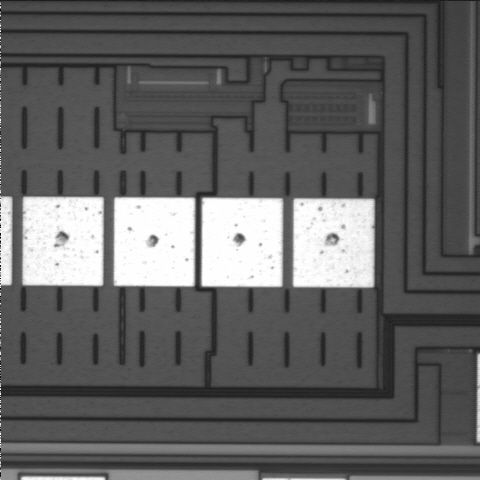pad: (22, 197, 104, 286), (201, 198, 283, 287), (114, 197, 195, 286), (293, 198, 374, 287)
